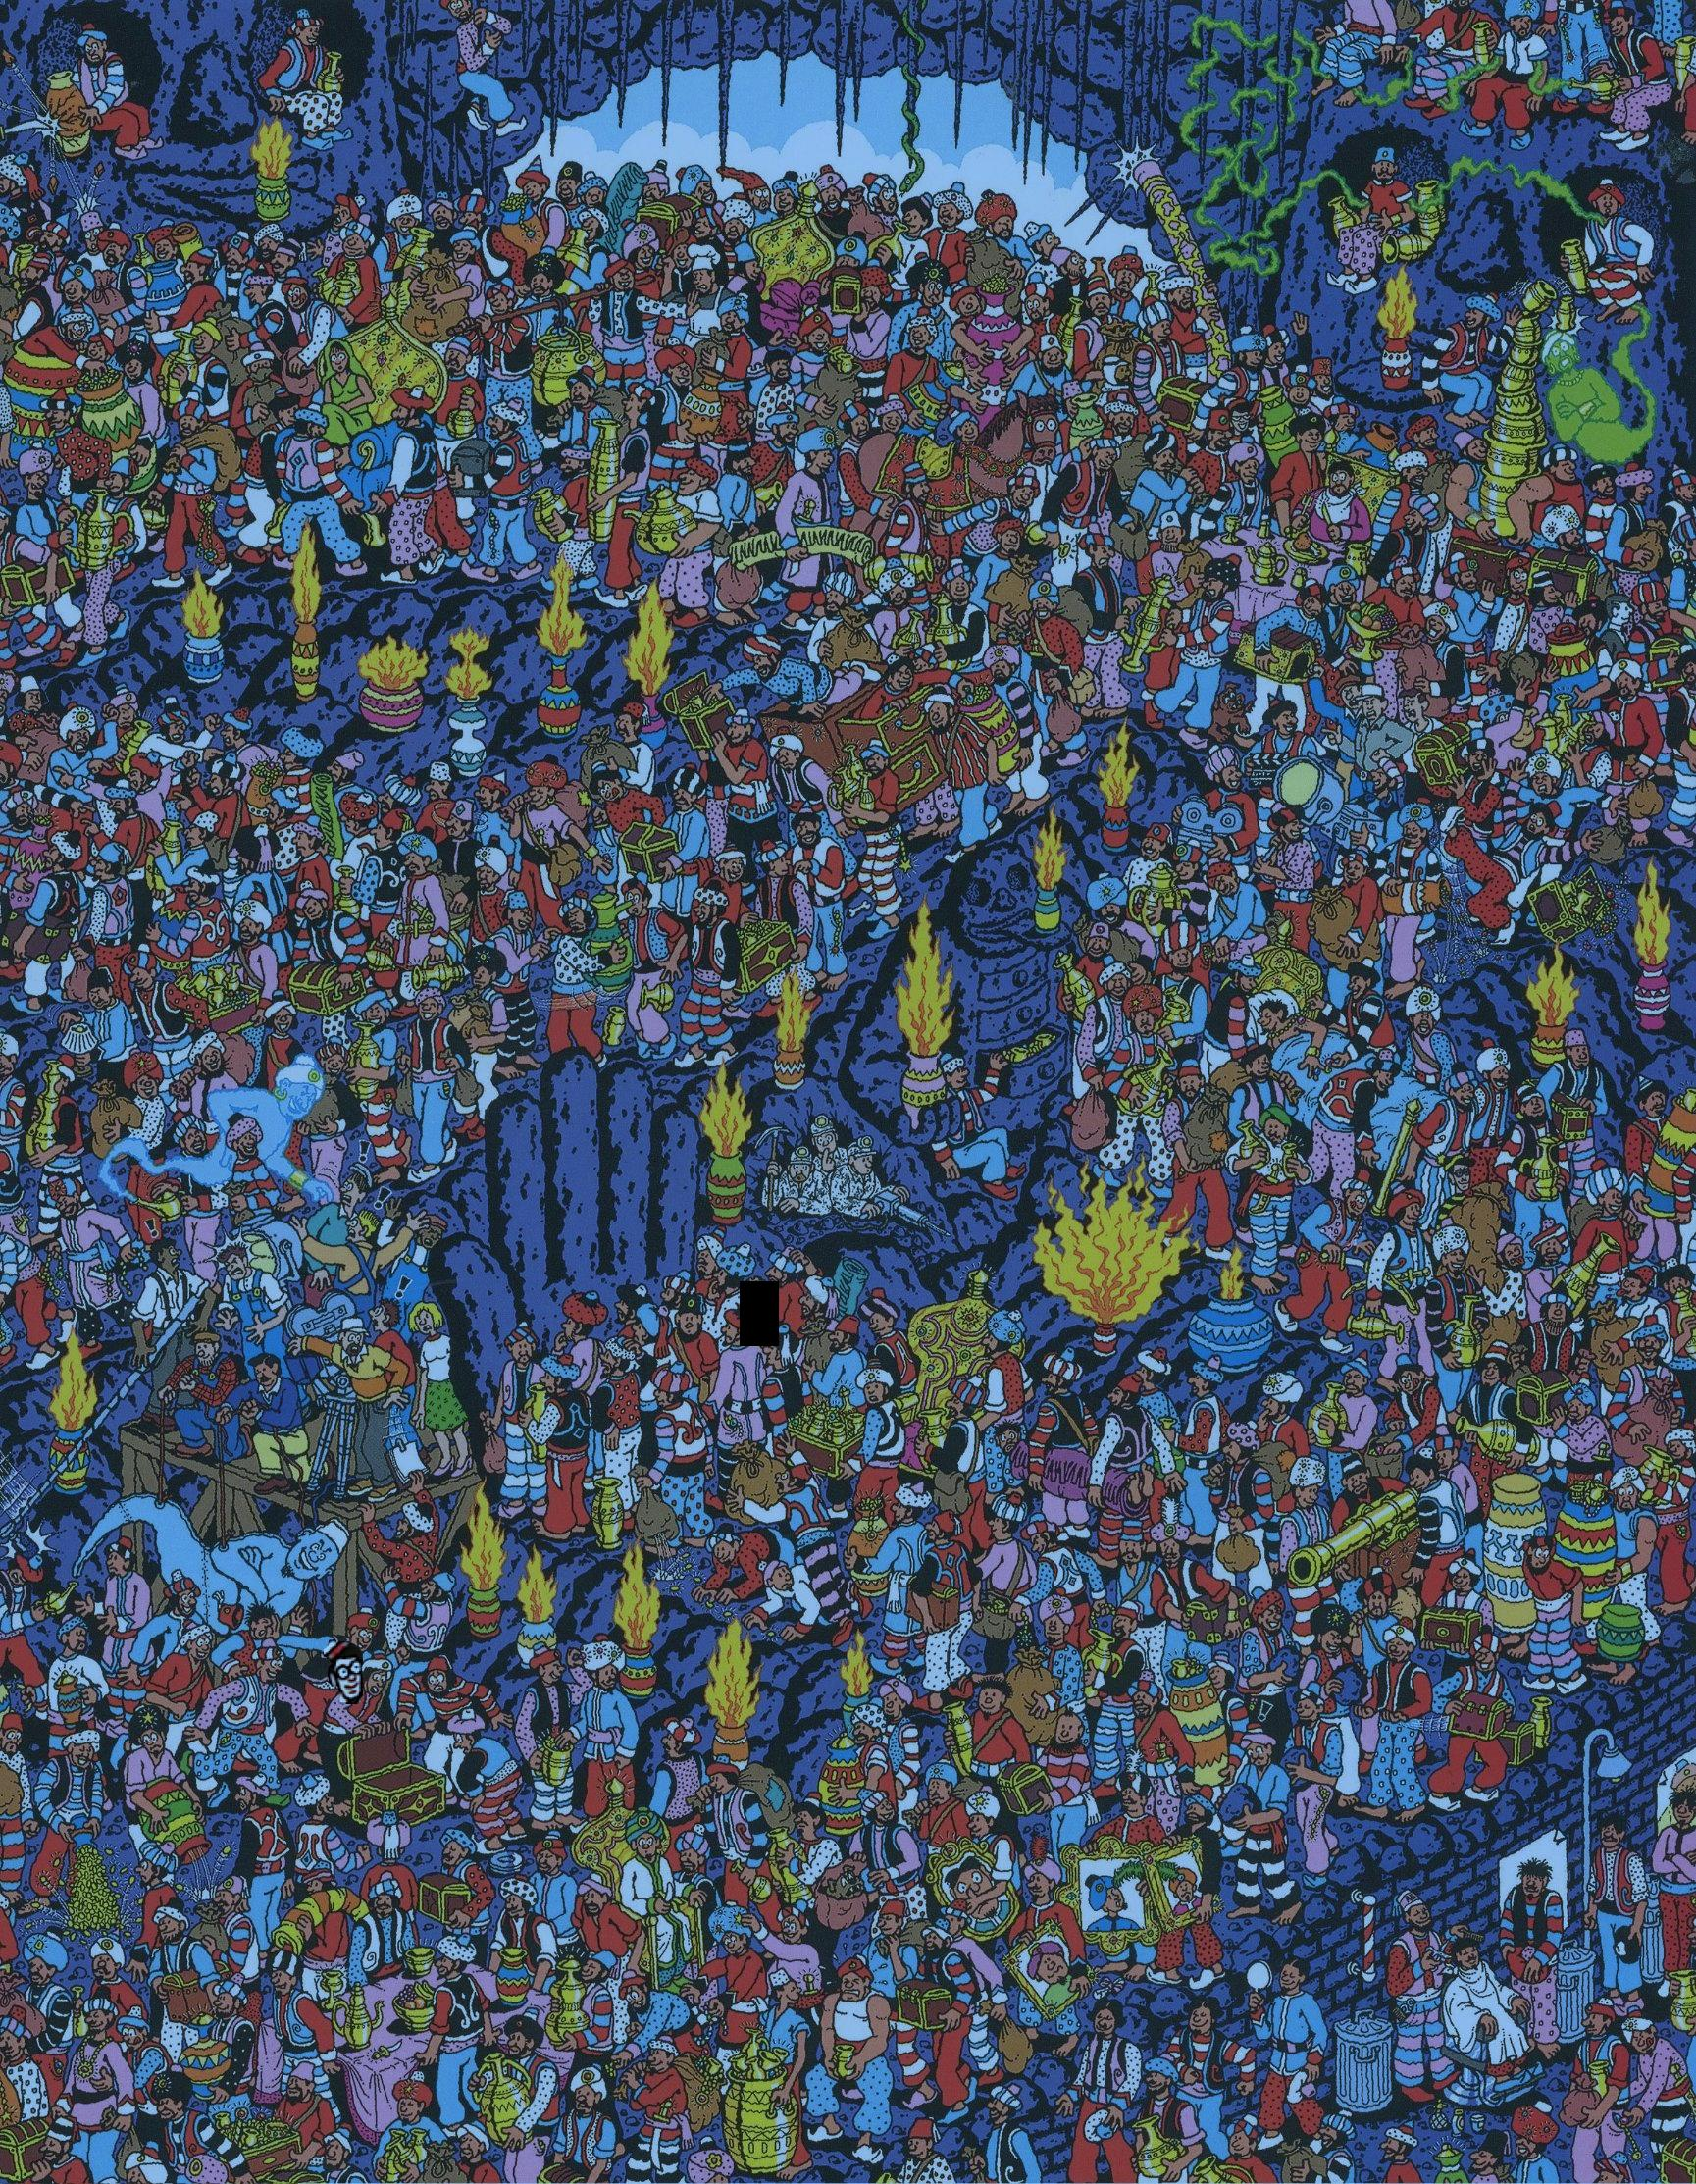waldos: (324, 1640, 363, 1704)
